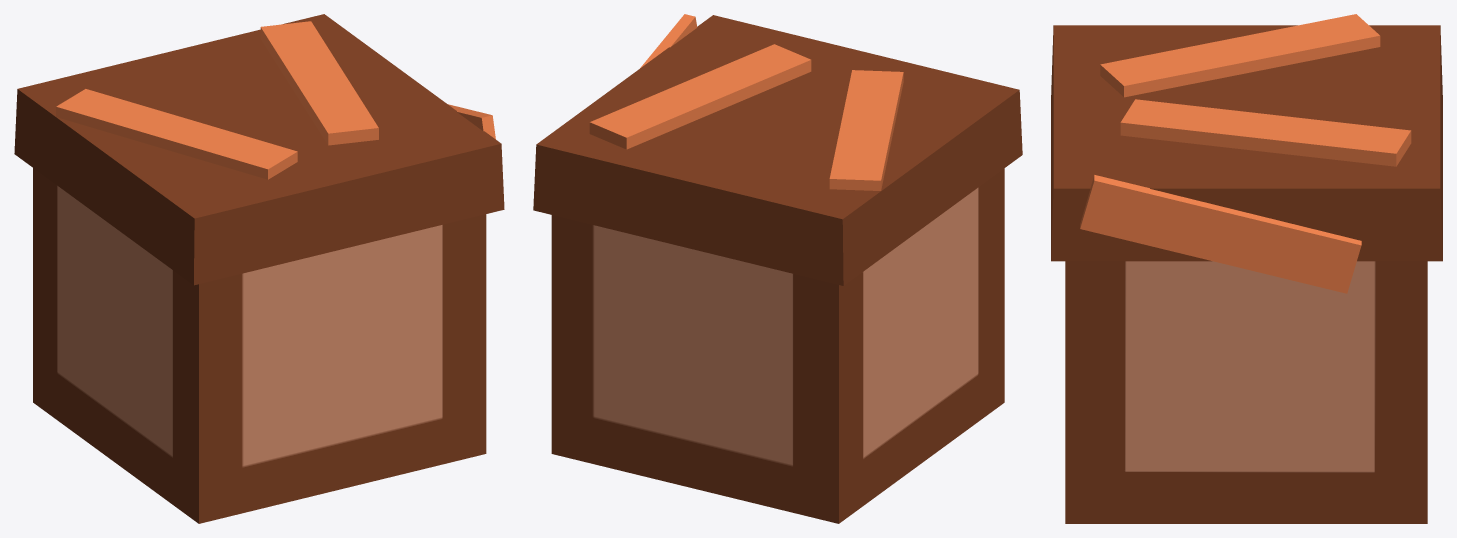
Rendered from Crate.fbx.
3 views of the same model, side by side, from view 1: azimuth 30°, elevation 25°; view 2: azimuth 150°, elevation 25°; view 3: azimuth 270°, elevation 25° (orthographic). The views are drawn at different scales.
Visible parts, largest first — view 1: Box001; view 2: Box001; view 3: Box001.
Part boxes in pixels (bbox=[...]): Box001: bbox=[14, 14, 504, 523]; Box001: bbox=[533, 14, 1022, 523]; Box001: bbox=[1051, 14, 1442, 523].
Bounding box in the file's own units: 14.45 × 14.19 × 14.09.
1 material, 1 textured.
